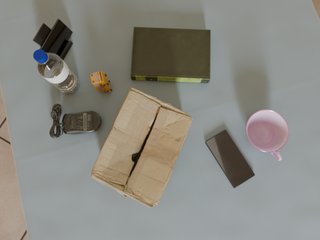book: (131, 27, 210, 83)
bottle: (33, 49, 79, 94)
box: (91, 88, 192, 208)
cup: (246, 110, 289, 161)
mouse: (50, 104, 101, 138)
phone: (205, 130, 255, 188), (40, 19, 73, 56)
toy_car: (91, 72, 112, 93)
